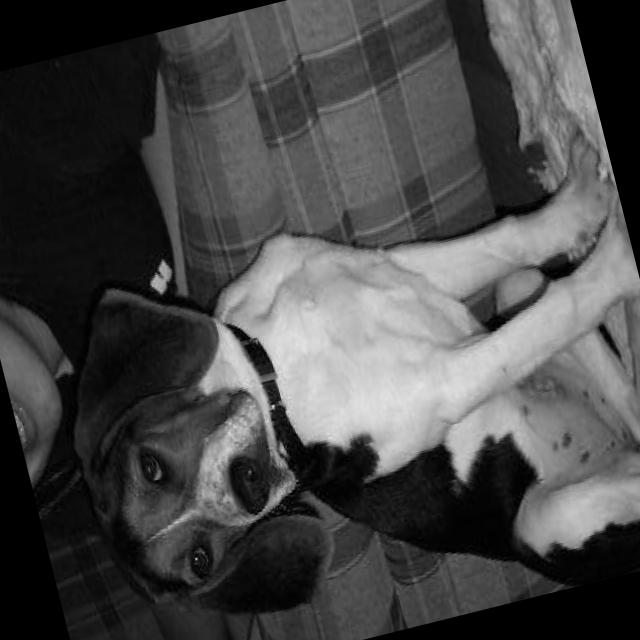sitting: (27, 125, 640, 640)
